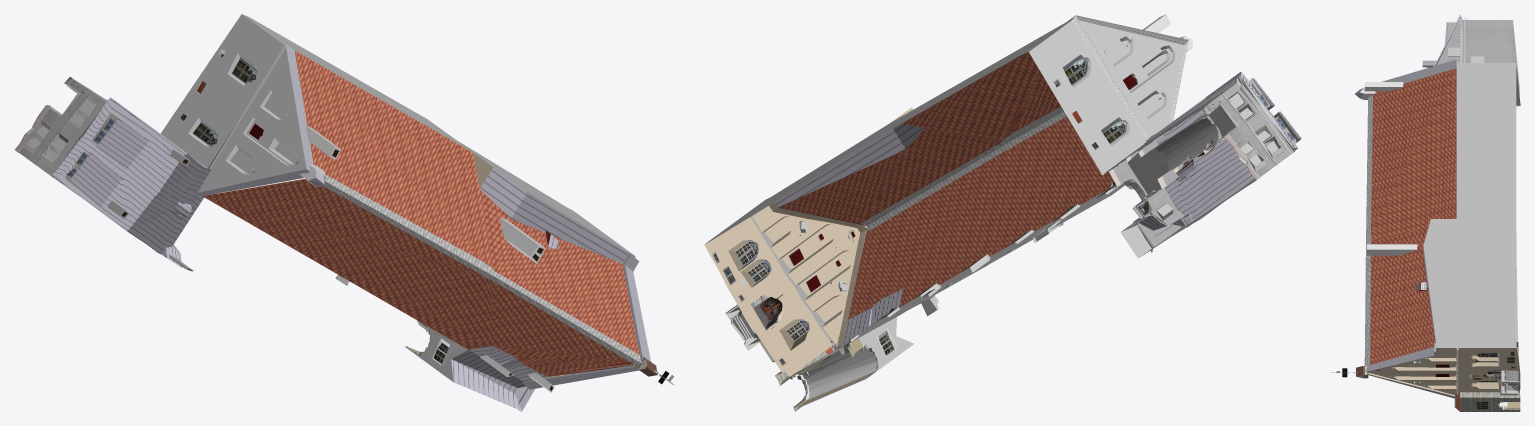
The model's file is Pikk_17-origo.obj.
3 views of the same model, side by side, from view 1: azimuth 30°, elevation 25°; view 2: azimuth 150°, elevation 25°; view 3: azimuth 270°, elevation 25° (orthographic). The views are drawn at different scales.
Visible parts, largest first — view 1: Pikk_17, Lai_14; view 2: Pikk_17, Lai_14; view 3: Pikk_17, Lai_14.
Part boxes in pixels (x1,y1,x2,y2): Pikk_17: (160, 14, 674, 411); Lai_14: (15, 77, 211, 271); Pikk_17: (704, 14, 1192, 411); Lai_14: (1104, 72, 1301, 258); Pikk_17: (1331, 59, 1520, 411); Lai_14: (1422, 14, 1519, 106).
Bounding box in the file's own units: 65.12 × 47 × 29.25.
